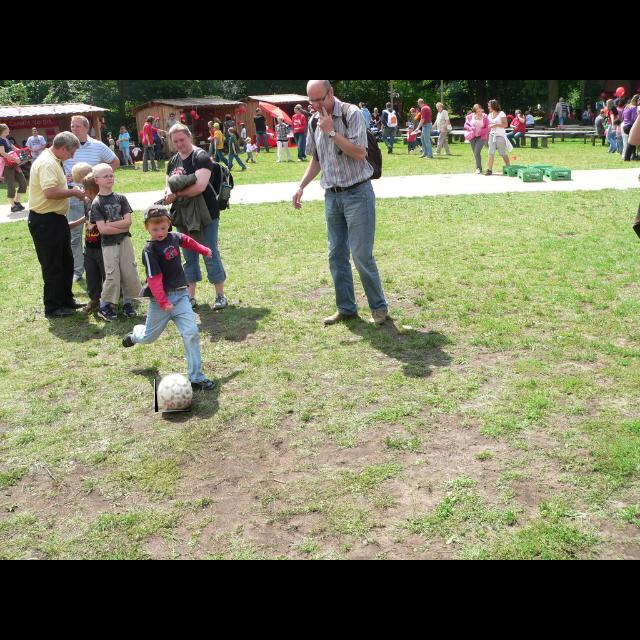Football: (155, 374, 191, 412)
